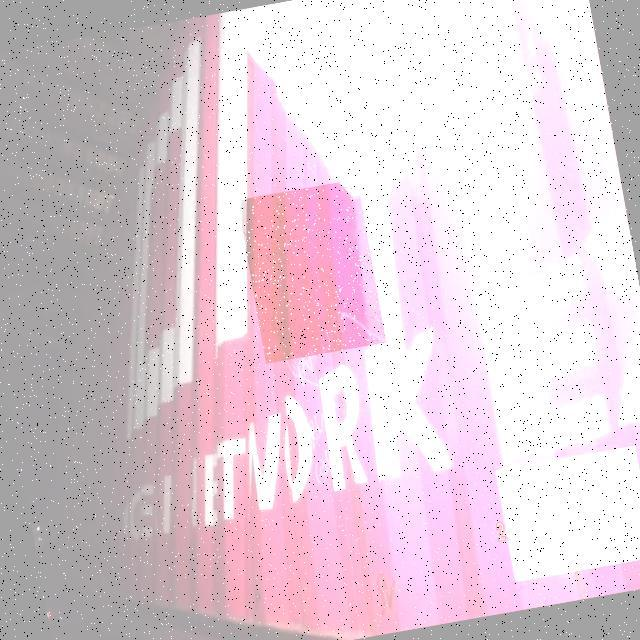Dent: (237, 179, 386, 364)
